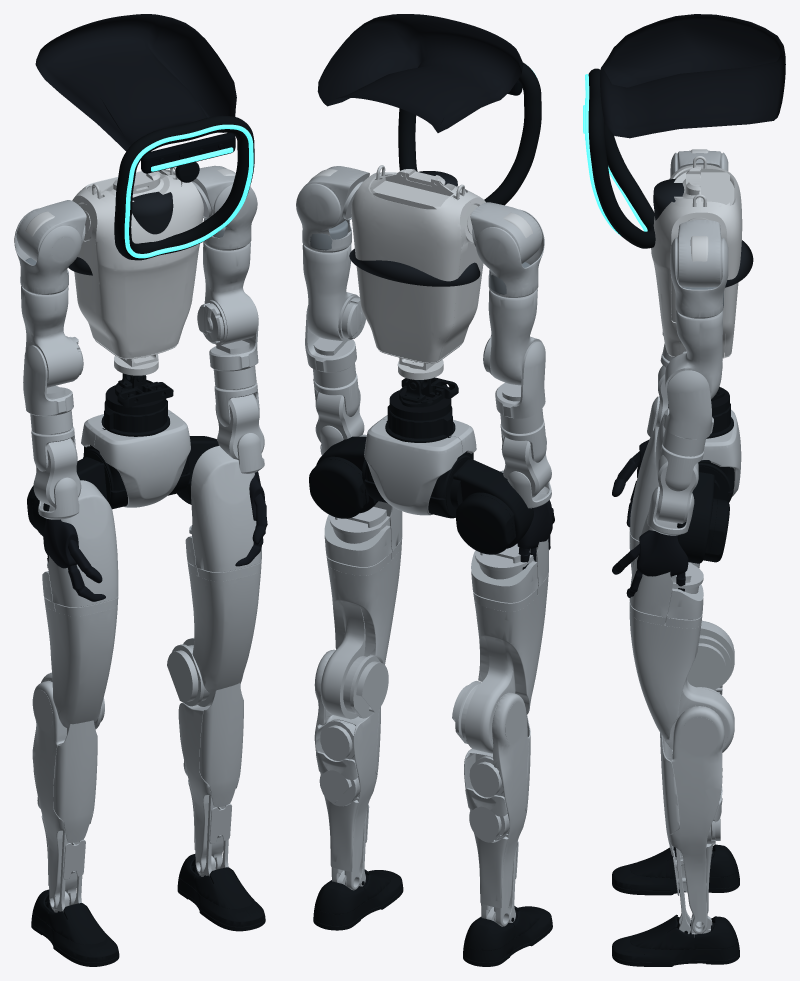
The model's file is reference-office-robot.glb.
3 views of the same model, side by side, from view 1: azimuth 30°, elevation 25°; view 2: azimuth 150°, elevation 25°; view 3: azimuth 270°, elevation 25° (orthographic). The views are drawn at different scales.
Visible parts, largest first — view 1: helmet_black_smooth_cowl, official_torso_link, official_right_knee_link, official_left_hip_yaw_link, official_left_knee_link, official_right_hip_yaw_link, official_left_hip_roll_link, official_pelvis_contour_link, black_u_visor_frame, official_right_hip_roll_link, official_left_shoulder_yaw_link, official_right_shoulder_yaw_link (+23 smaller); view 2: official_torso_link, helmet_black_smooth_cowl, official_right_knee_link, official_left_hip_yaw_link, official_left_knee_link, official_right_hip_yaw_link, official_pelvis_contour_link, official_right_hip_pitch_link, official_left_shoulder_yaw_link, official_left_hip_pitch_link, official_left_hip_roll_link, official_right_shoulder_yaw_link (+20 smaller); view 3: helmet_black_smooth_cowl, official_left_knee_link, official_torso_link, official_left_hip_yaw_link, black_u_visor_frame, official_left_ankle_roll_link, official_left_elbow_link, official_right_ankle_roll_link, official_left_hip_roll_link, official_left_hip_pitch_link, official_left_shoulder_yaw_link, official_left_rubber_hand (+14 smaller).
Boxes of the visible parts, x1,y1,x2,y2 form: helmet_black_smooth_cowl: (35,14,236,151); official_torso_link: (72,166,203,375); official_right_knee_link: (32,681,97,911); official_left_hip_yaw_link: (167,561,261,706); official_left_knee_link: (178,683,243,875); official_right_hip_yaw_link: (41,596,118,734); official_left_hip_roll_link: (185,446,261,572); official_pelvis_contour_link: (81,409,190,507); black_u_visor_frame: (114,115,254,260); official_right_hip_roll_link: (42,480,118,607); official_left_shoulder_yaw_link: (197,242,257,345); official_right_shoulder_yaw_link: (21,286,83,387); official_torso_link: (351,165,485,379); helmet_black_smooth_cowl: (317,14,523,132); official_right_knee_link: (464,692,530,926); official_left_hip_yaw_link: (320,537,402,719); official_left_knee_link: (314,649,380,890); official_right_hip_yaw_link: (452,574,548,753); official_pelvis_contour_link: (364,415,476,515); official_right_hip_pitch_link: (450,459,533,554); official_left_shoulder_yaw_link: (302,244,365,341); official_left_hip_pitch_link: (309,436,378,518); official_left_hip_roll_link: (324,434,402,566); official_right_shoulder_yaw_link: (483,289,542,385); helmet_black_smooth_cowl: (600,14,785,138); official_left_knee_link: (660,706,724,933); official_torso_link: (651,156,742,368); official_left_hip_yaw_link: (629,601,734,752); black_u_visor_frame: (588,68,655,248); official_left_ankle_roll_link: (612,914,739,966); official_left_elbow_link: (662,370,713,456); official_right_ankle_roll_link: (612,844,739,895); official_left_hip_roll_link: (629,512,703,619); official_left_hip_pitch_link: (677,472,729,563); official_left_shoulder_yaw_link: (665,310,722,399); official_left_rubber_hand: (612,530,688,597).
Size of the model in its own units: 0.3922 by 1.48 by 0.306.
